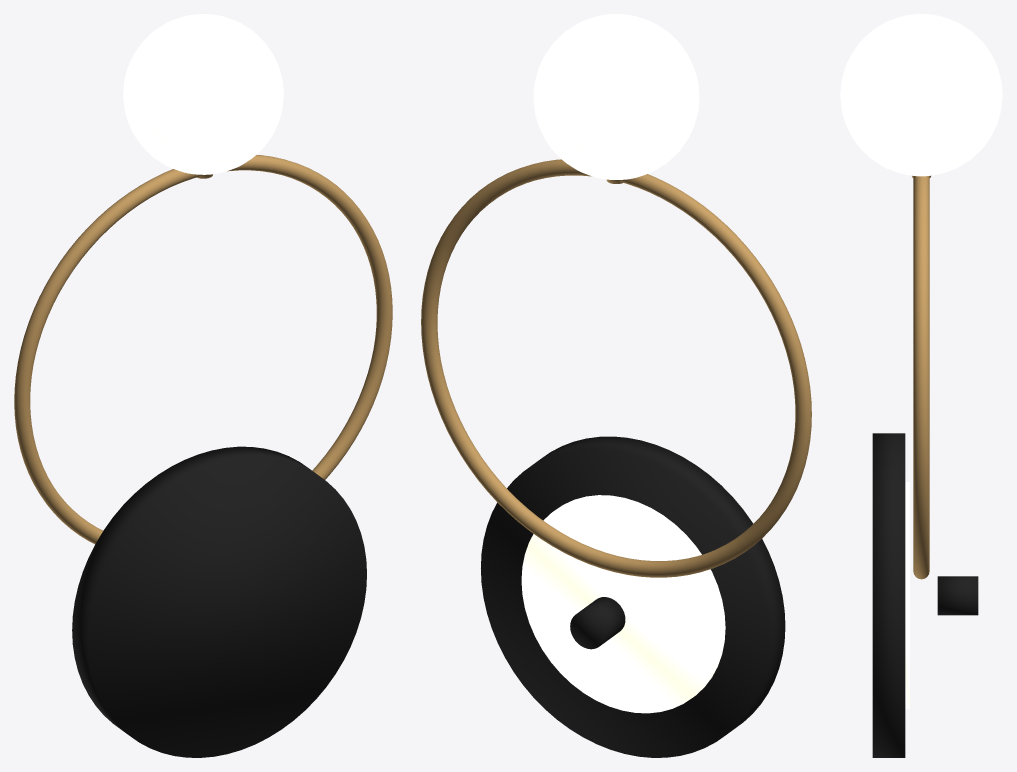
3 renders of one model, left to right at view 1: azimuth 30°, elevation 25°; view 2: azimuth 150°, elevation 25°; view 3: azimuth 270°, elevation 25°, orthographic. The views are drawn at different scales.
Visible parts, largest first — view 1: void-cloud-az8; view 2: void-cloud-az8; view 3: void-cloud-az8.
Boxes of the visible parts, x1,y1,x2,y2 form: void-cloud-az8: [14, 14, 392, 757]; void-cloud-az8: [421, 14, 811, 757]; void-cloud-az8: [840, 14, 1002, 757].
Bounding box in the file's own units: 0.27 × 0.49 × 0.1.
